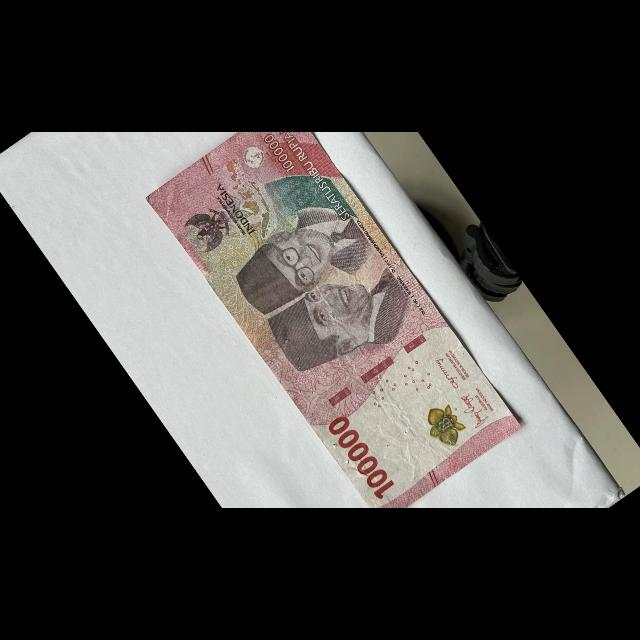Palsu-100k: (140, 90, 529, 534)
Tinta-Palsu-100k: (416, 397, 473, 455)
